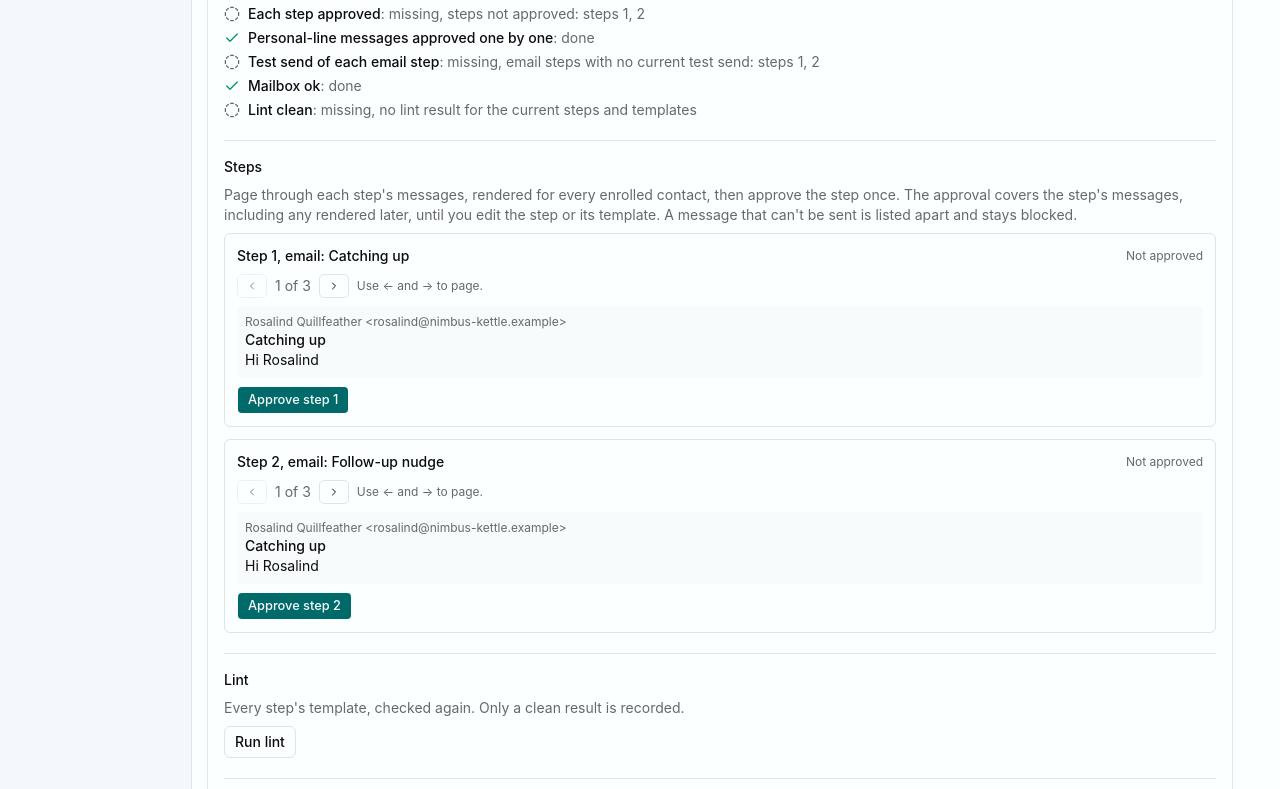
Test: step review › approves the step once, for the fingerprint it was shown with
(page scrolled)
Expected: the text "Not approved" in the row of "Step 1, email: Catching up" is shown, [1126,248,1203,263]
Click the button "Approve step 1". click: (293, 400)
box: [237,386,349,414]
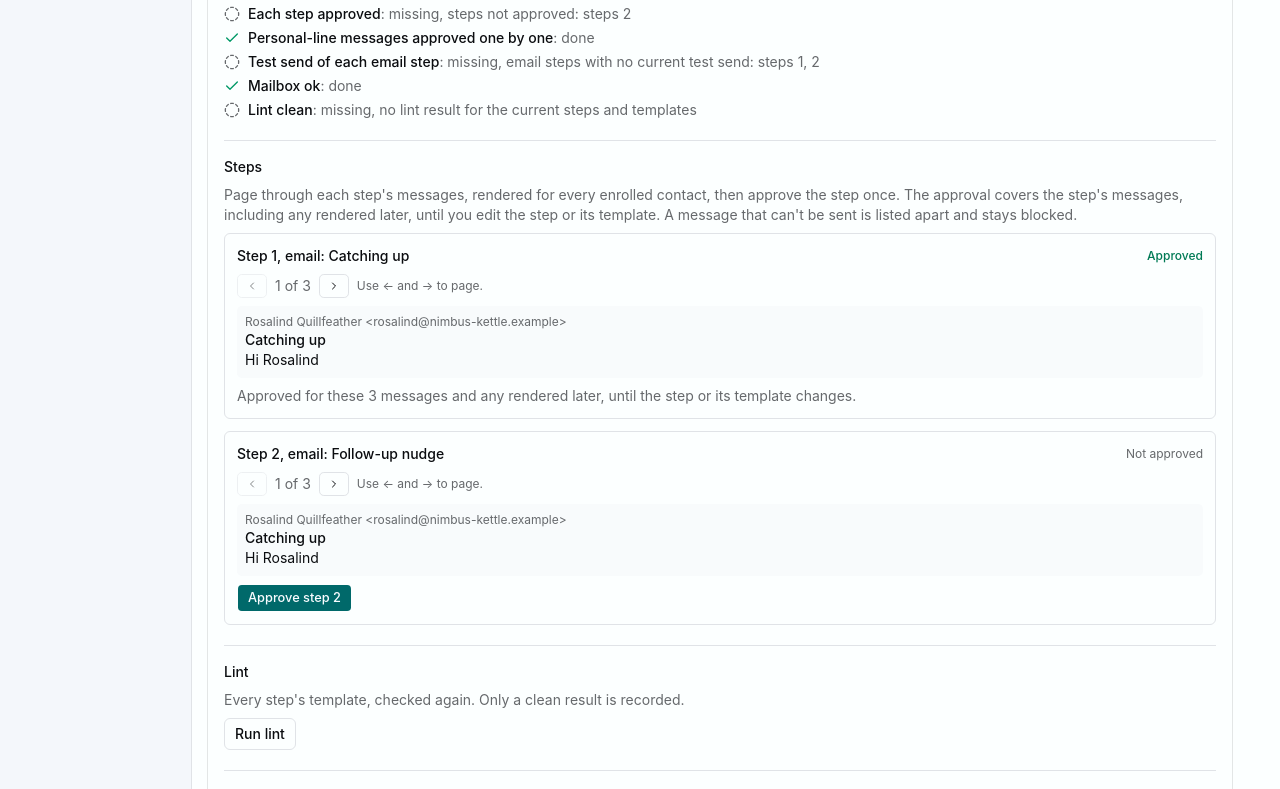
Now the text "Approved for these 3 messages and any rendered later" is shown, box [237,387,856,404]
Now the button "Approve step 1" is gone
Now the list item "Each step approved: missing, steps not approved: steps 2" is shown, box [224,5,631,22]
